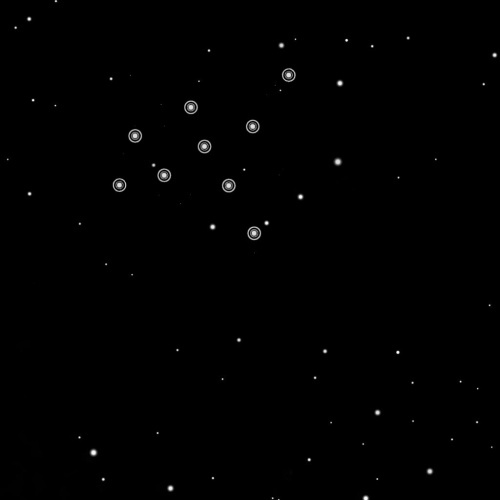cygnus: (109, 61, 299, 243)
